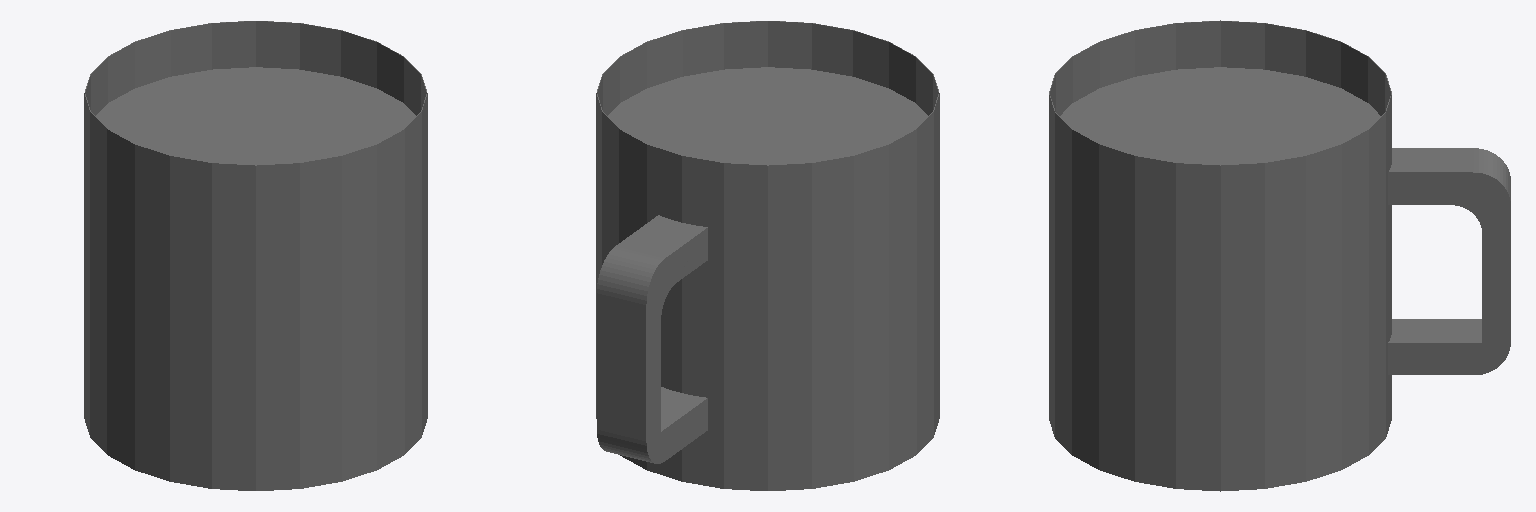
URDF robot description (object):
<?xml version="1.0"?>
<robot name="object">
  <link name="object">
    <visual>
      <origin xyz="0 0 0"/>
      <geometry>
        <mesh
          filename="../../mesh/oakink_virtual/mug_s121.stl" />
      </geometry>
      <material name="mat">
        <color rgba="0.5 0.5 0.5 1"/>
      </material>
    </visual>

    <collision>
      <origin xyz="0 0 0"/>
      <geometry>
        <mesh
          filename="../../mesh/oakink_virtual/mug_s121.stl" />
      </geometry>
    </collision>
  </link>
</robot>

--- Facts derived from the render (not from the file) ---
3 views of the same robot in one strip: view 1: azimuth 30°, elevation 25°; view 2: azimuth 150°, elevation 25°; view 3: azimuth 270°, elevation 25° (orthographic).
Robot: object — 1 links, 0 joints (none); root link object; default pose: all joints at 0.
Links seen in each view (by area): view 1: object; view 2: object; view 3: object.
Boxes of the visible links, x1,y1,x2,y2 form: object: (84,21,427,490); object: (596,21,939,490); object: (1049,20,1510,491).
Size in the robot's own frame: 0.0817 by 0.11 by 0.0856 metres.
1 mesh visuals loaded from 1 distinct referenced files (1 binary STL).